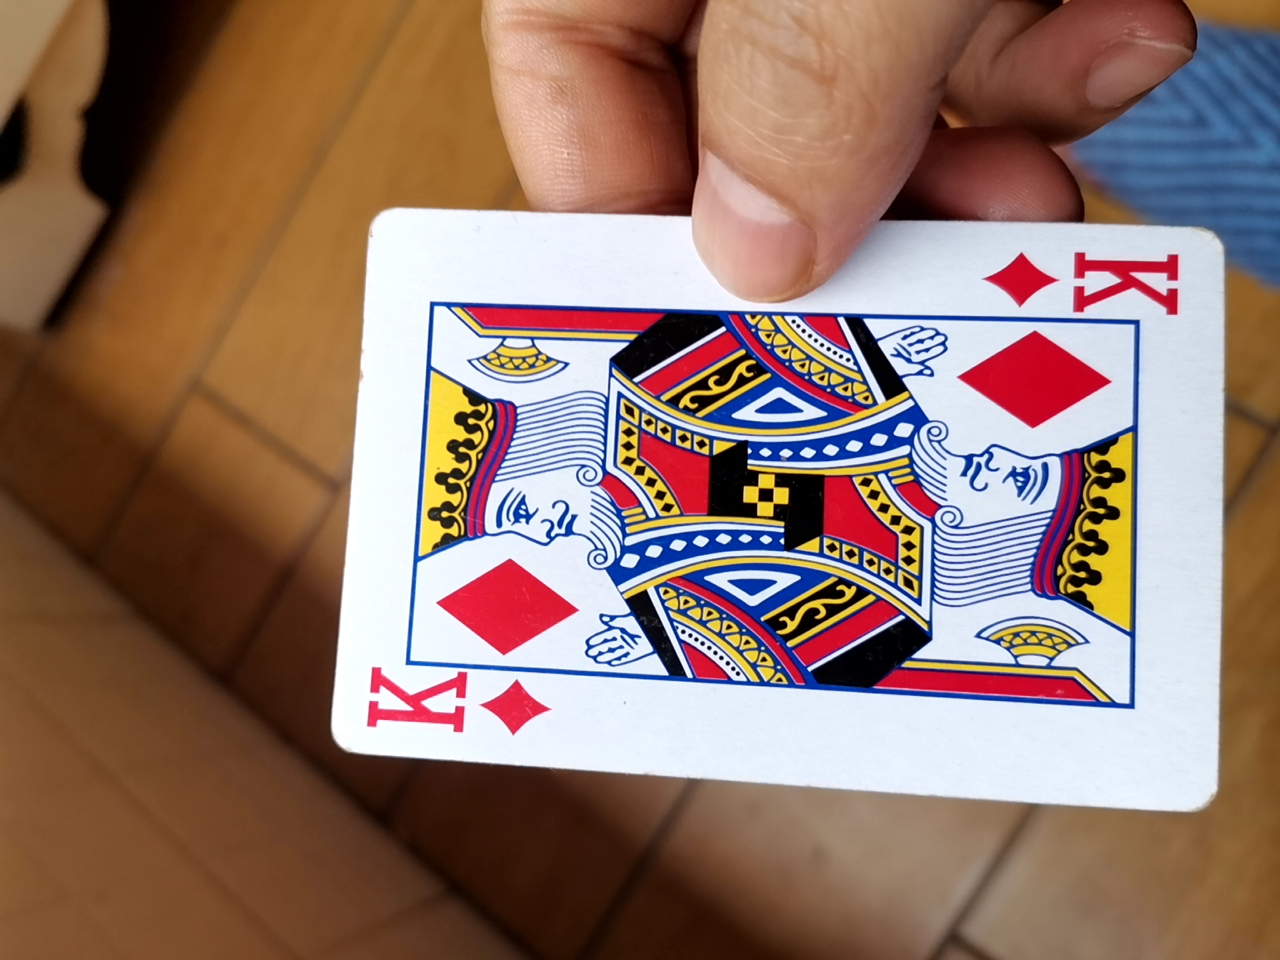fk k: (314, 194, 1219, 816)
